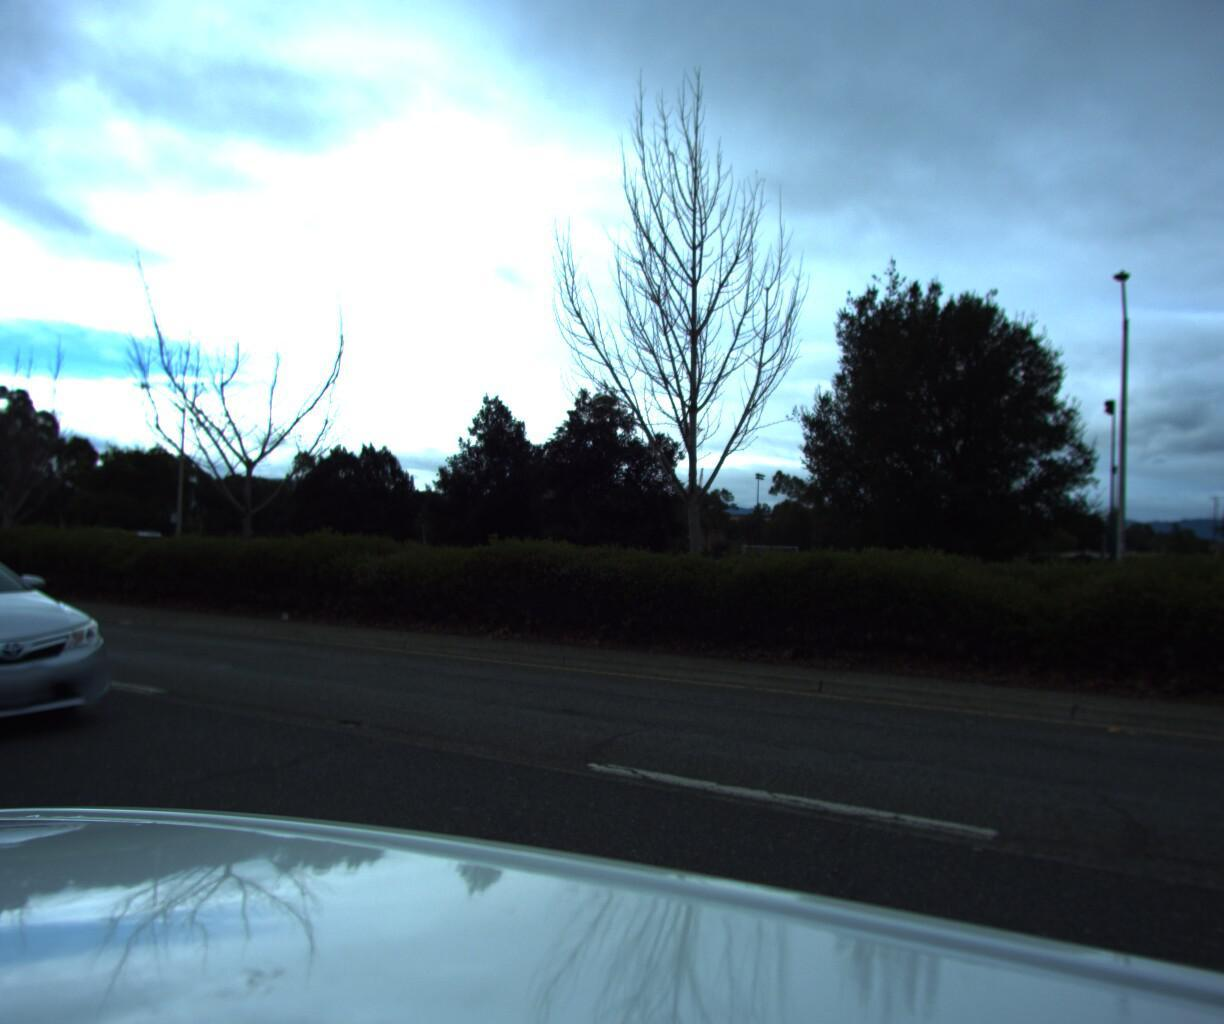car: (0, 516, 143, 769)
